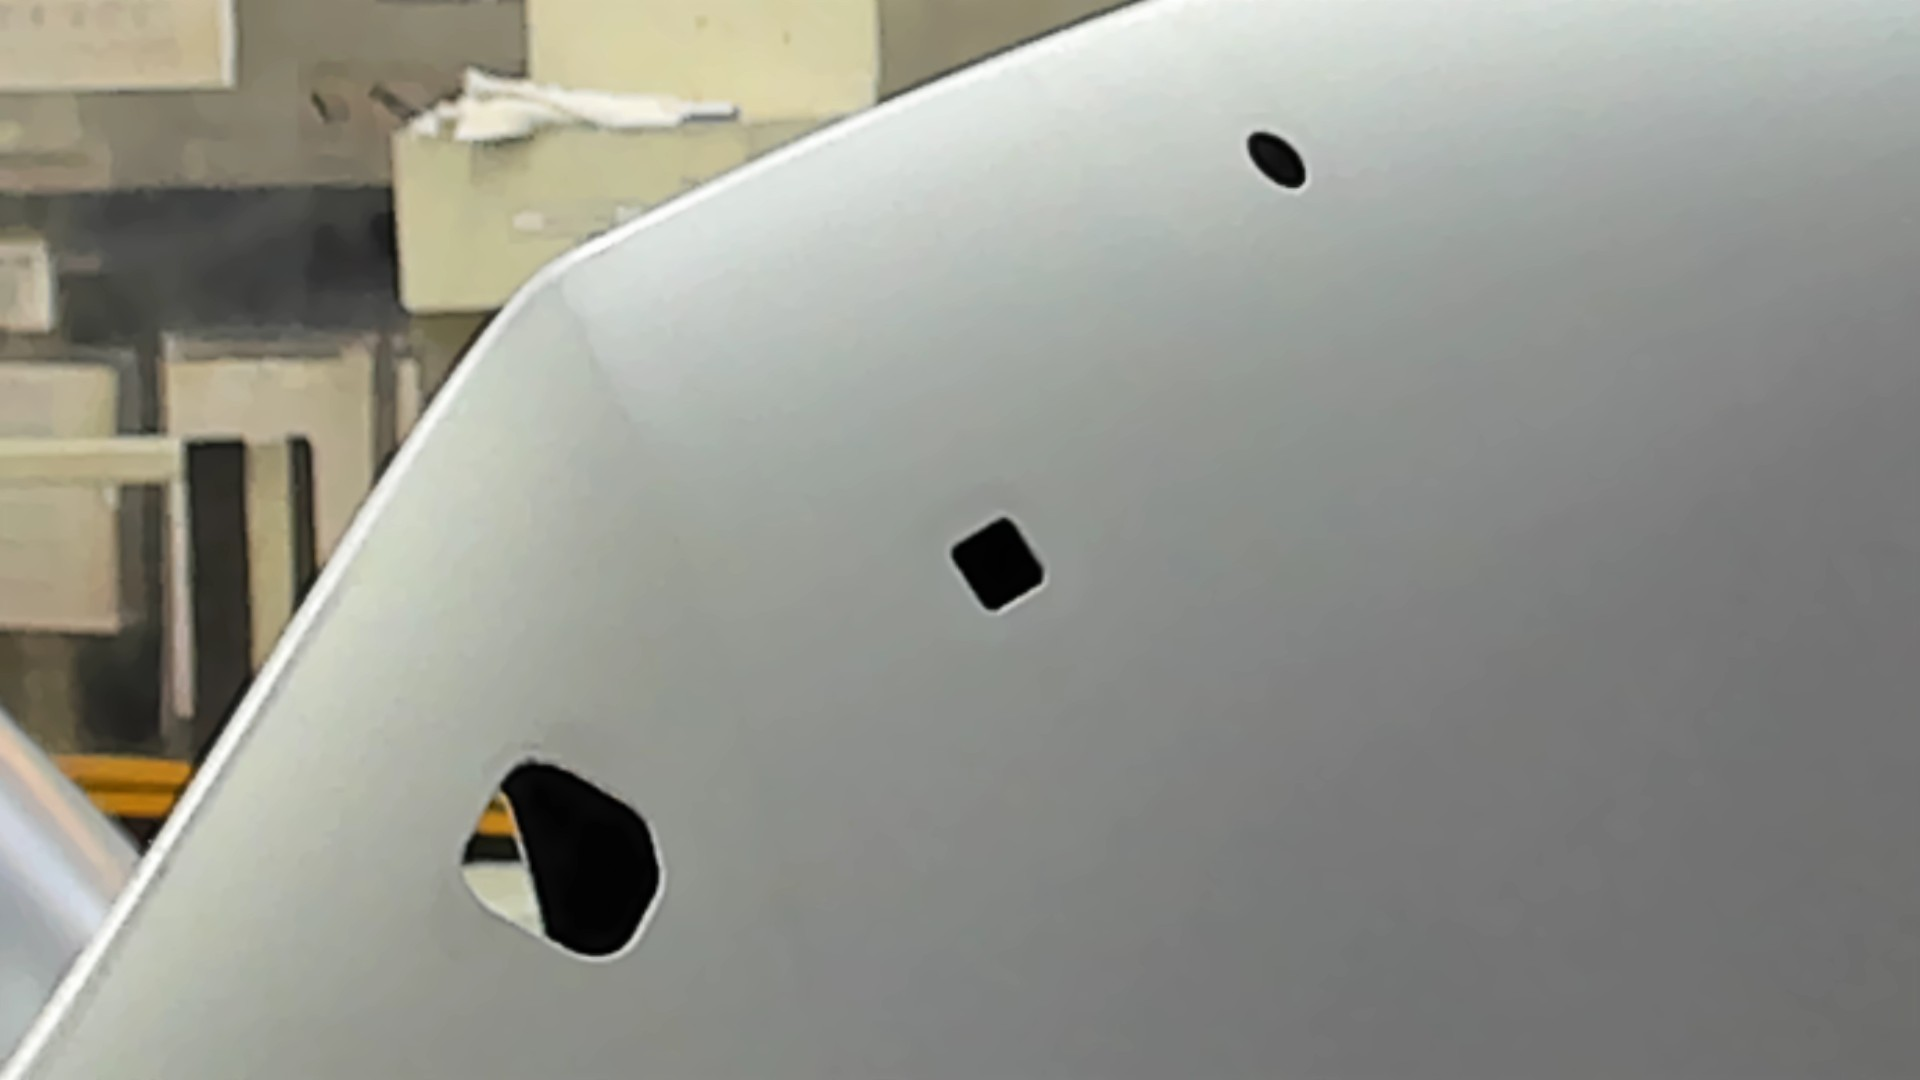chico: (1244, 127, 1315, 194)
grande: (454, 754, 670, 971)
mediano: (948, 509, 1051, 617)
